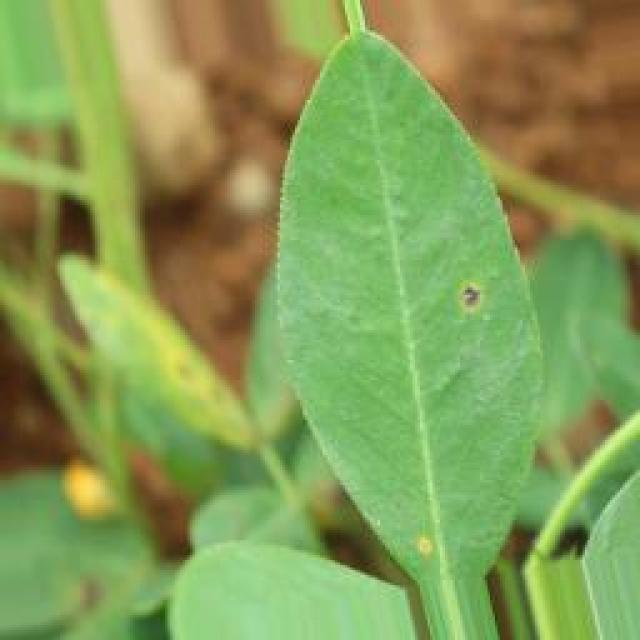Sigatoka: (408, 256, 520, 336), (384, 512, 454, 581)
